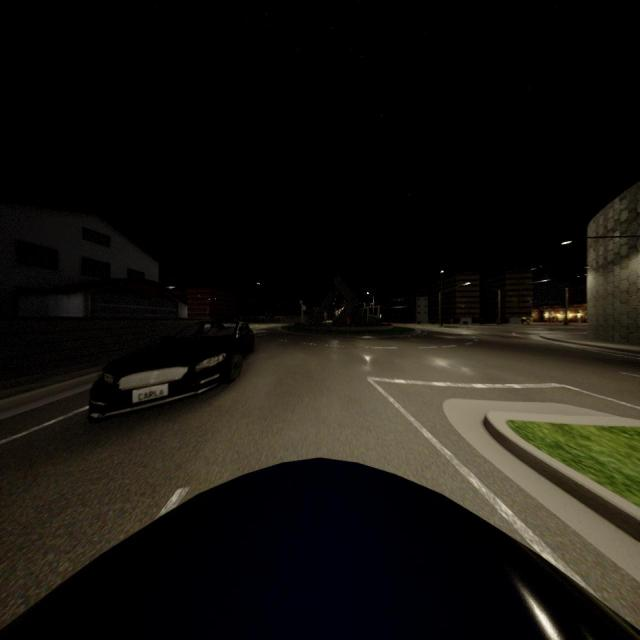Vehicle: (0, 460, 640, 640), (90, 322, 256, 416)
